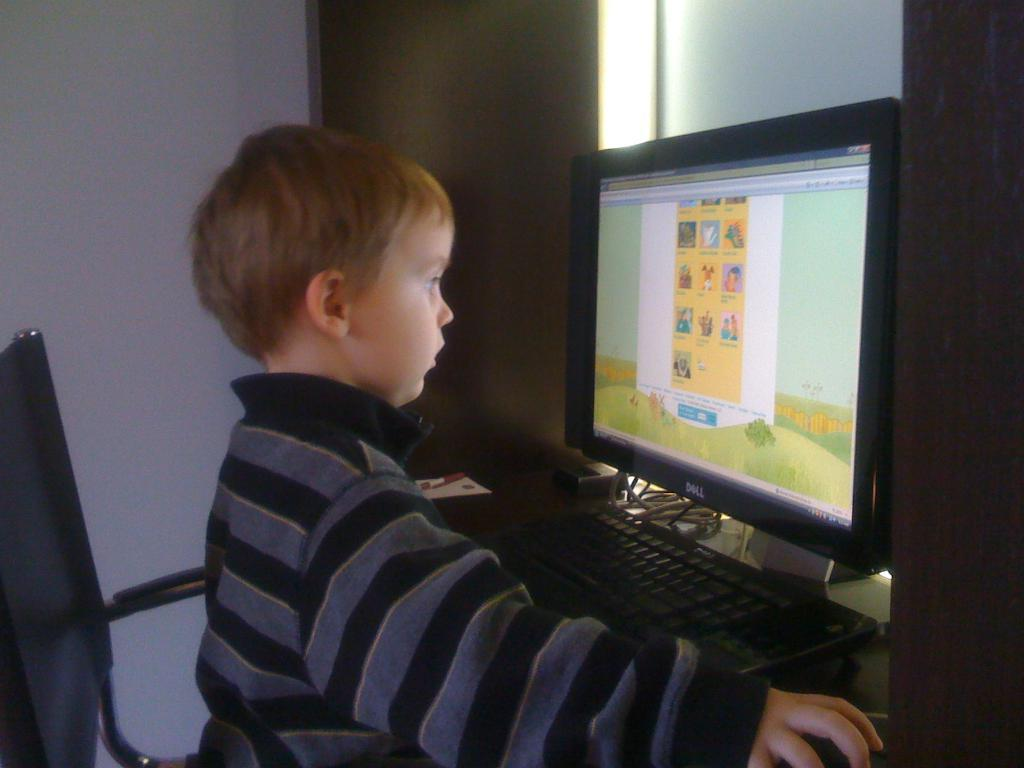Book: (412, 471, 491, 500)
Chair: (0, 326, 211, 767)
Computer-monitor: (561, 95, 901, 585)
